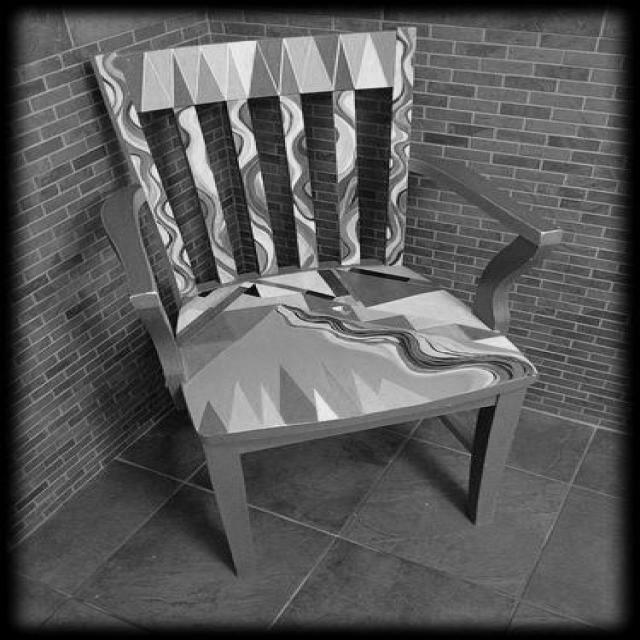chair: (78, 23, 563, 580)
